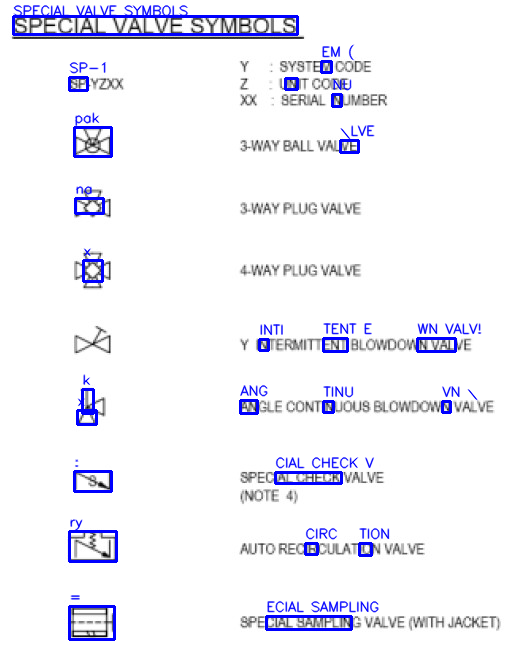Válvula: (67, 604, 120, 639), (66, 529, 120, 563), (73, 249, 112, 291), (70, 124, 114, 161), (72, 187, 114, 220), (74, 384, 107, 426), (72, 325, 114, 355), (71, 469, 116, 494)
